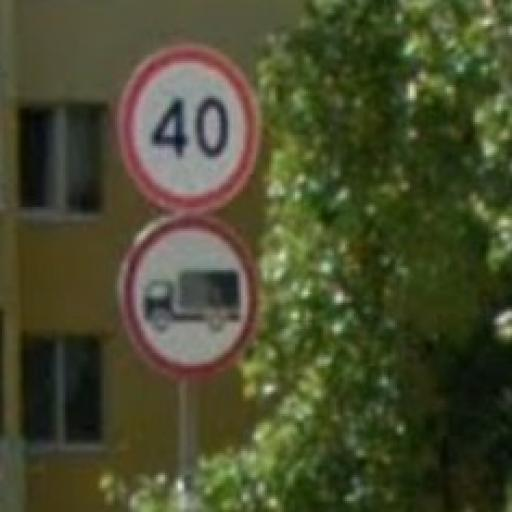traffic_sign: (116, 45, 261, 213), (118, 212, 259, 378)
